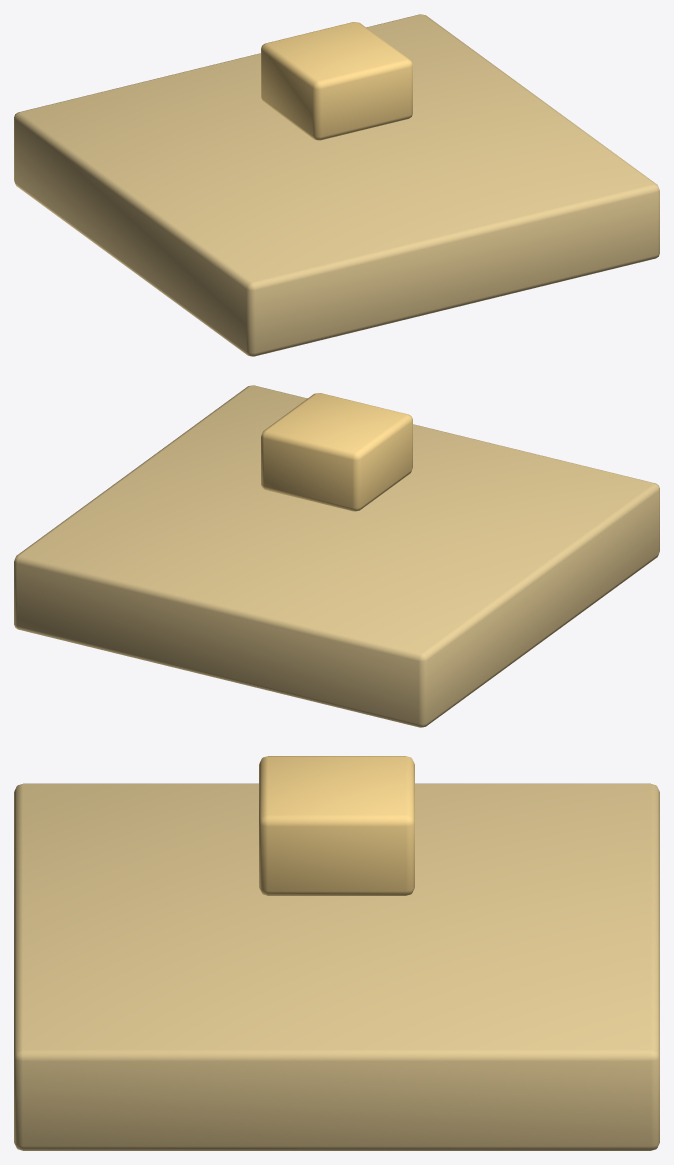
File: opera_crate_lid.glb
3 renders of one model, top to bottom at view 1: azimuth 30°, elevation 25°; view 2: azimuth 150°, elevation 25°; view 3: azimuth 270°, elevation 25°, orthographic. The views are drawn at different scales.
Visible parts, largest first — view 1: lid, handle; view 2: lid, handle; view 3: lid, handle.
Boxes of the visible parts, x1,y1,x2,y2 form: lid: [14, 14, 659, 356]; handle: [261, 22, 412, 140]; lid: [14, 385, 659, 727]; handle: [261, 393, 412, 511]; lid: [14, 783, 659, 1150]; handle: [259, 756, 414, 895].
Bounding box in the file's own units: 1.45 × 0.575 × 1.45.
